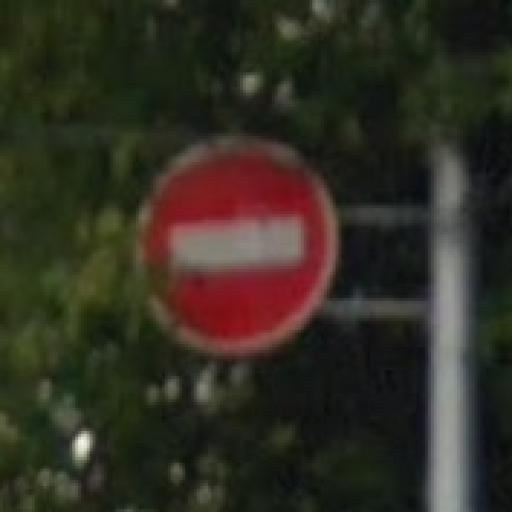traffic_sign: (134, 131, 342, 357)
